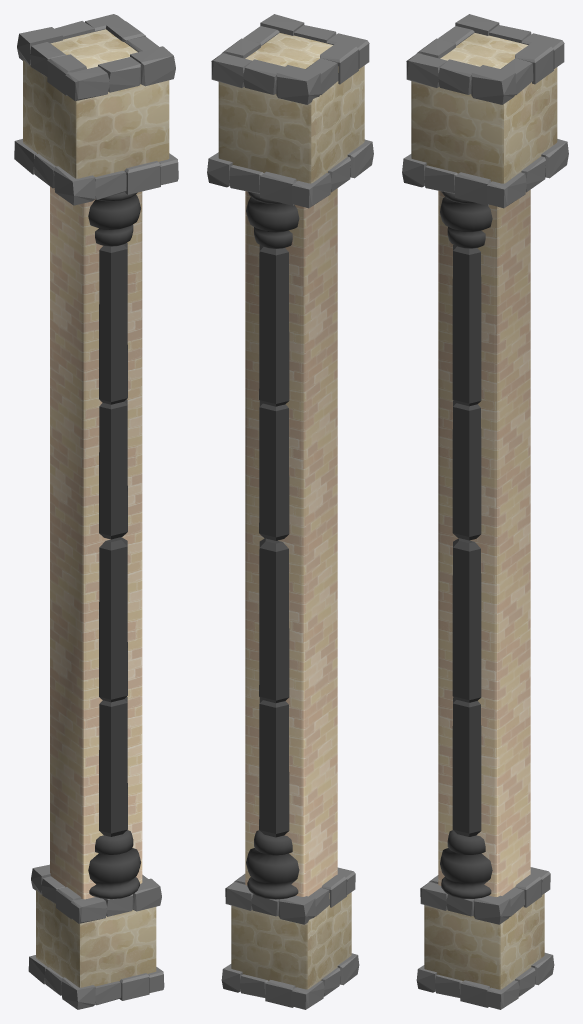
The model's file is SM_pillar_01.fbx.
3 views of the same model, side by side, from view 1: azimuth 30°, elevation 25°; view 2: azimuth 150°, elevation 25°; view 3: azimuth 330°, elevation 25° (orthographic).
Visible parts, largest first — view 1: 1; view 2: 1; view 3: 1.
Boxes of the visible parts, bbox=[...] form: 1: bbox=[14, 14, 178, 1009]; 1: bbox=[207, 14, 373, 1009]; 1: bbox=[402, 14, 568, 1009].
Size of the model in its own units: 64.2 by 542 by 65.74.
